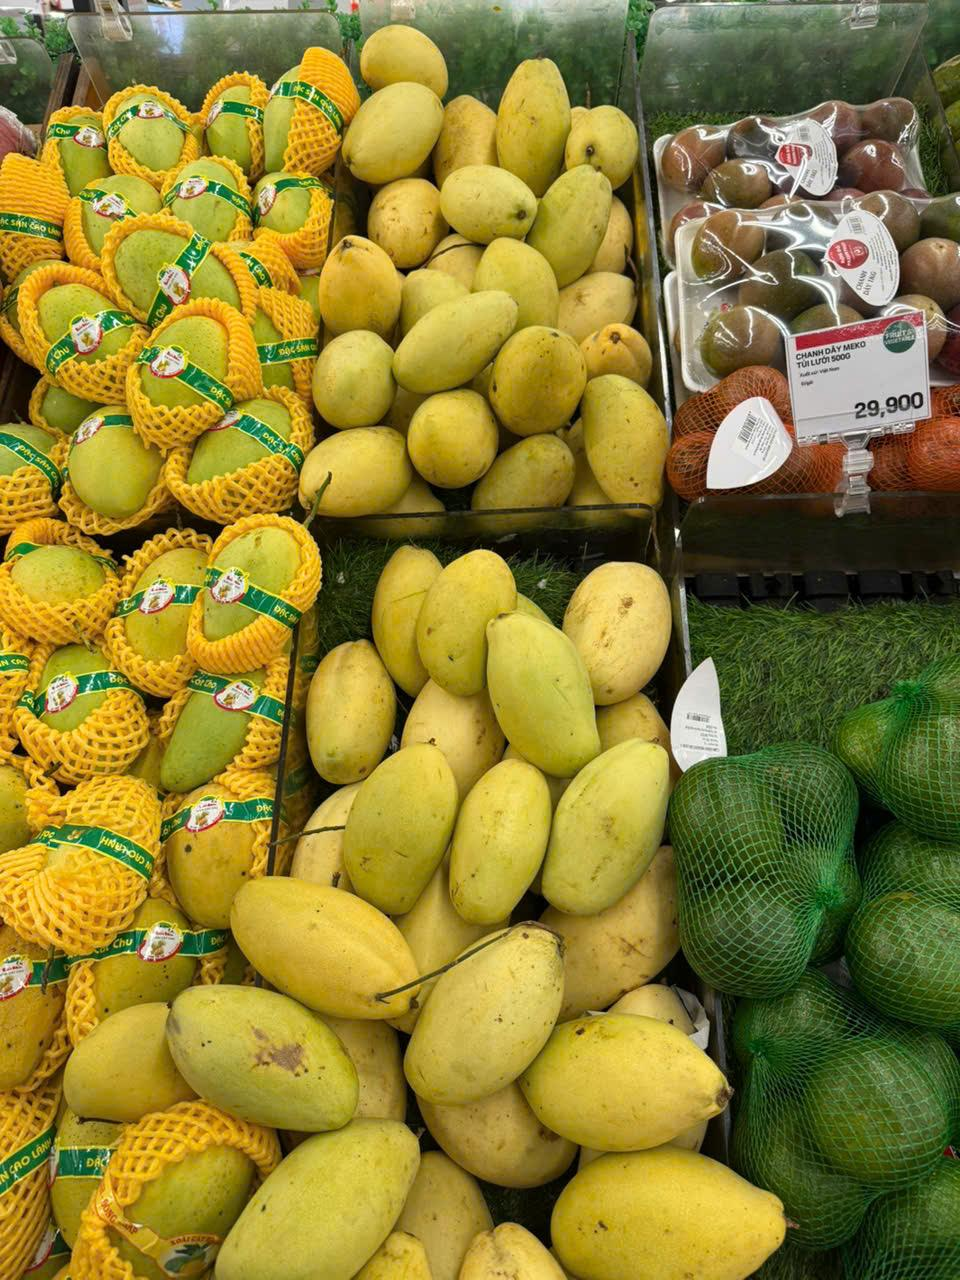mango: (162, 978, 370, 1130), (541, 1151, 788, 1278), (525, 1008, 730, 1154), (218, 1136, 422, 1280), (218, 876, 426, 1016), (405, 925, 564, 1096), (330, 736, 456, 900), (550, 746, 668, 920), (485, 616, 606, 770), (563, 550, 676, 710), (445, 756, 542, 924), (428, 545, 512, 697), (308, 636, 394, 774), (583, 376, 666, 512), (490, 326, 584, 433), (343, 86, 442, 185), (407, 388, 500, 492), (305, 428, 414, 514), (492, 55, 564, 181), (313, 236, 404, 332), (438, 175, 541, 252), (318, 336, 396, 425)
